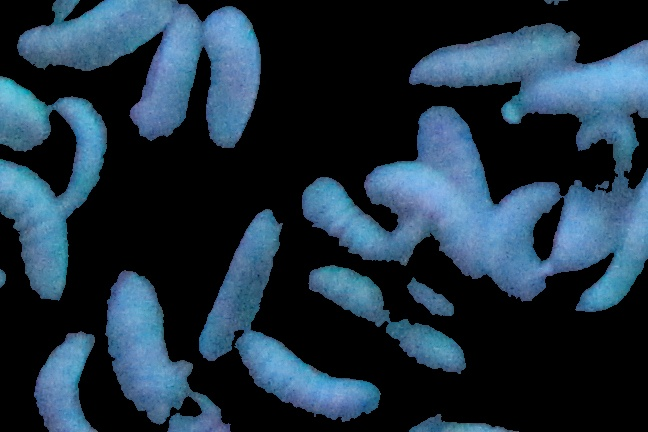larvae: (305, 268, 466, 388), (190, 204, 280, 371), (93, 274, 187, 419), (409, 20, 579, 99), (363, 164, 483, 274), (555, 112, 634, 272), (240, 333, 379, 419), (1, 156, 72, 306), (128, 11, 206, 144), (17, 4, 168, 70), (486, 176, 554, 302), (297, 176, 387, 269), (416, 101, 492, 205), (203, 12, 258, 150), (575, 213, 648, 312), (518, 69, 648, 122), (32, 331, 98, 429), (54, 99, 112, 207), (1, 59, 52, 156)
